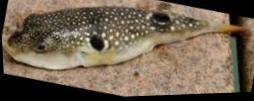fish: (6, 6, 244, 69)
